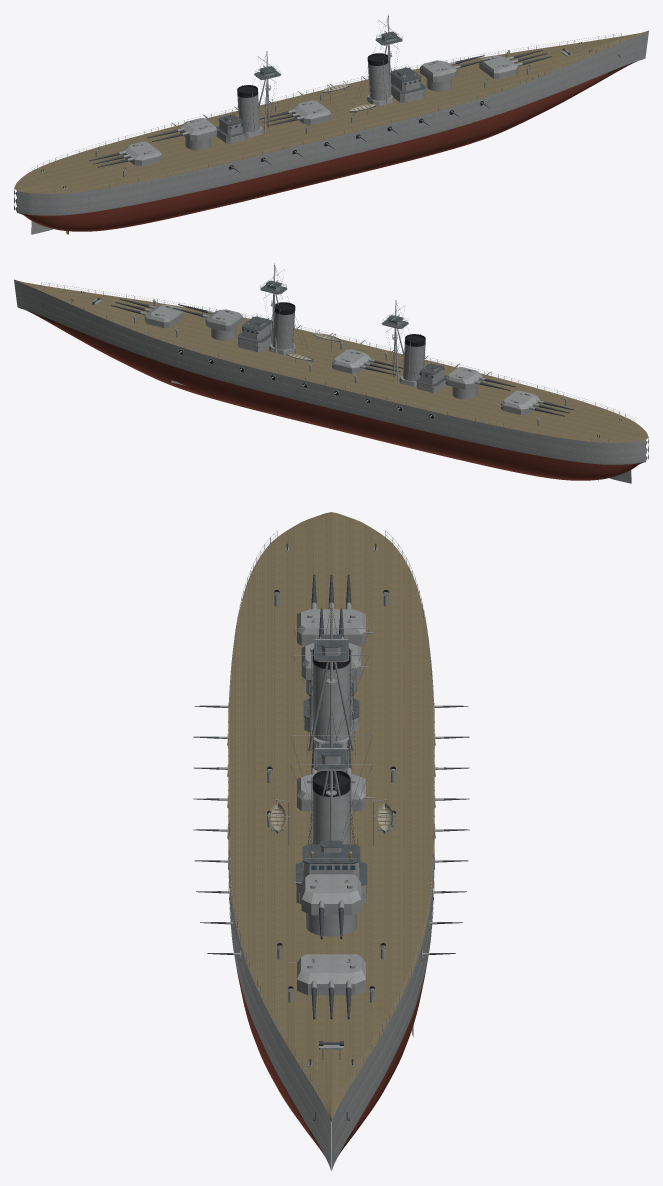
The model's file is conte_di_cavour.glb.
3 renders of one model, top to bottom at view 1: azimuth 30°, elevation 25°; view 2: azimuth 150°, elevation 25°; view 3: azimuth 270°, elevation 25°, orthographic. The views are drawn at different scales.
Visible parts, largest first — view 1: Conte di Cavour class; view 2: Conte di Cavour class; view 3: Conte di Cavour class.
Boxes of the visible parts, x1,y1,x2,y2 form: Conte di Cavour class: (14, 14, 648, 234); Conte di Cavour class: (14, 263, 648, 483); Conte di Cavour class: (193, 512, 469, 1170).
Size of the model in its own units: 188 by 38.39 by 35.42.
9 materials, 8 textured.
